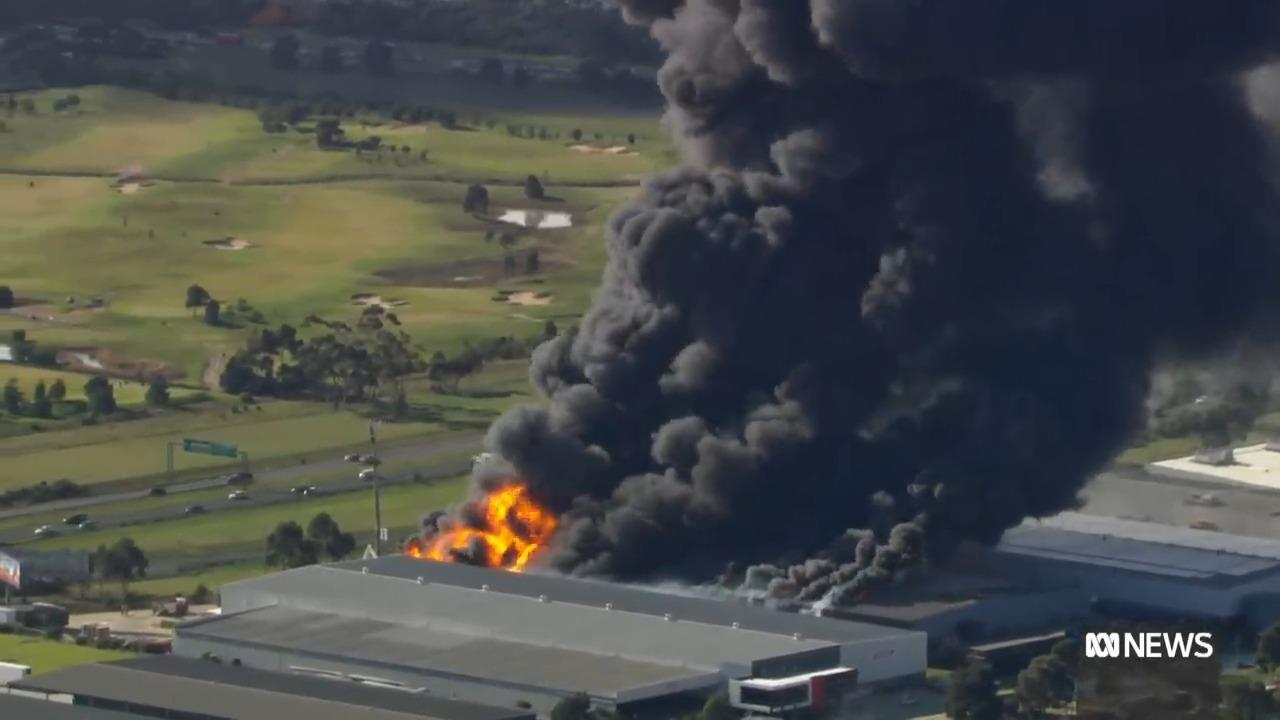fire: (474, 482, 562, 570)
